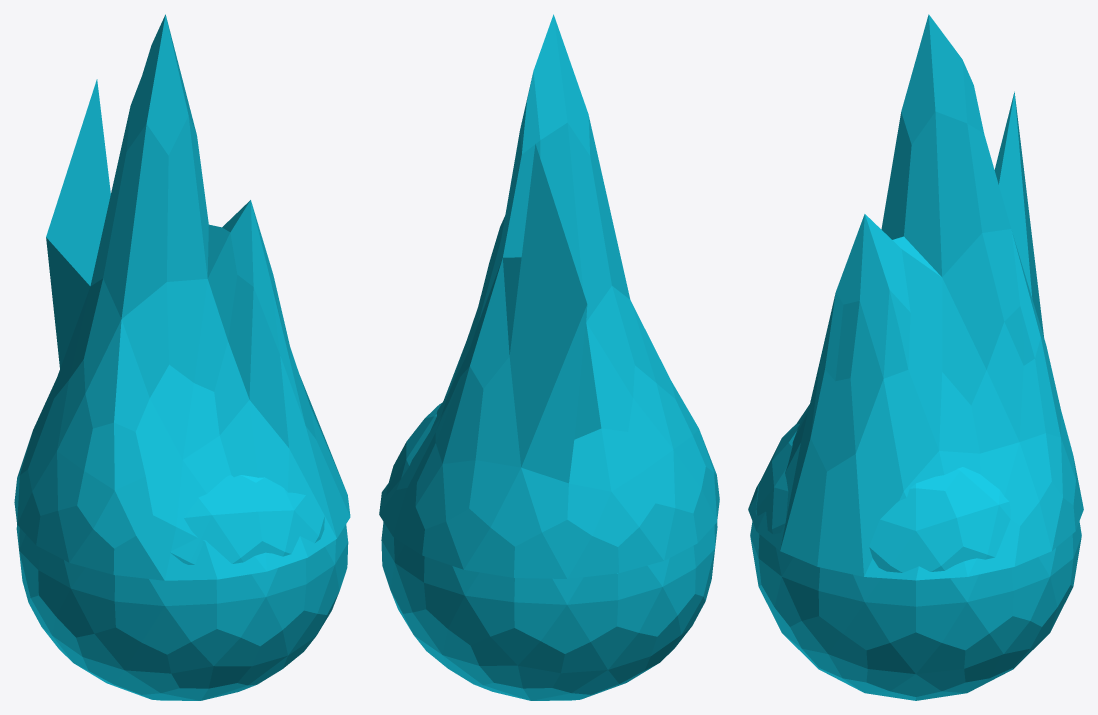
The model's file is ice.glb.
The picture shows the model from 3 angles, left to right: view 1: azimuth 30°, elevation 25°; view 2: azimuth 150°, elevation 25°; view 3: azimuth 270°, elevation 25°; orthographic projection. The views are drawn at different scales.
Visible parts, largest first — view 1: Icosphere; view 2: Icosphere; view 3: Icosphere.
Part boxes in pixels (box(x1,y1,x2,y2)): Icosphere: box(14, 14, 350, 700); Icosphere: box(379, 14, 719, 700); Icosphere: box(748, 14, 1083, 700).
Bounding box in the file's own units: 1.87 × 4.11 × 1.87.
